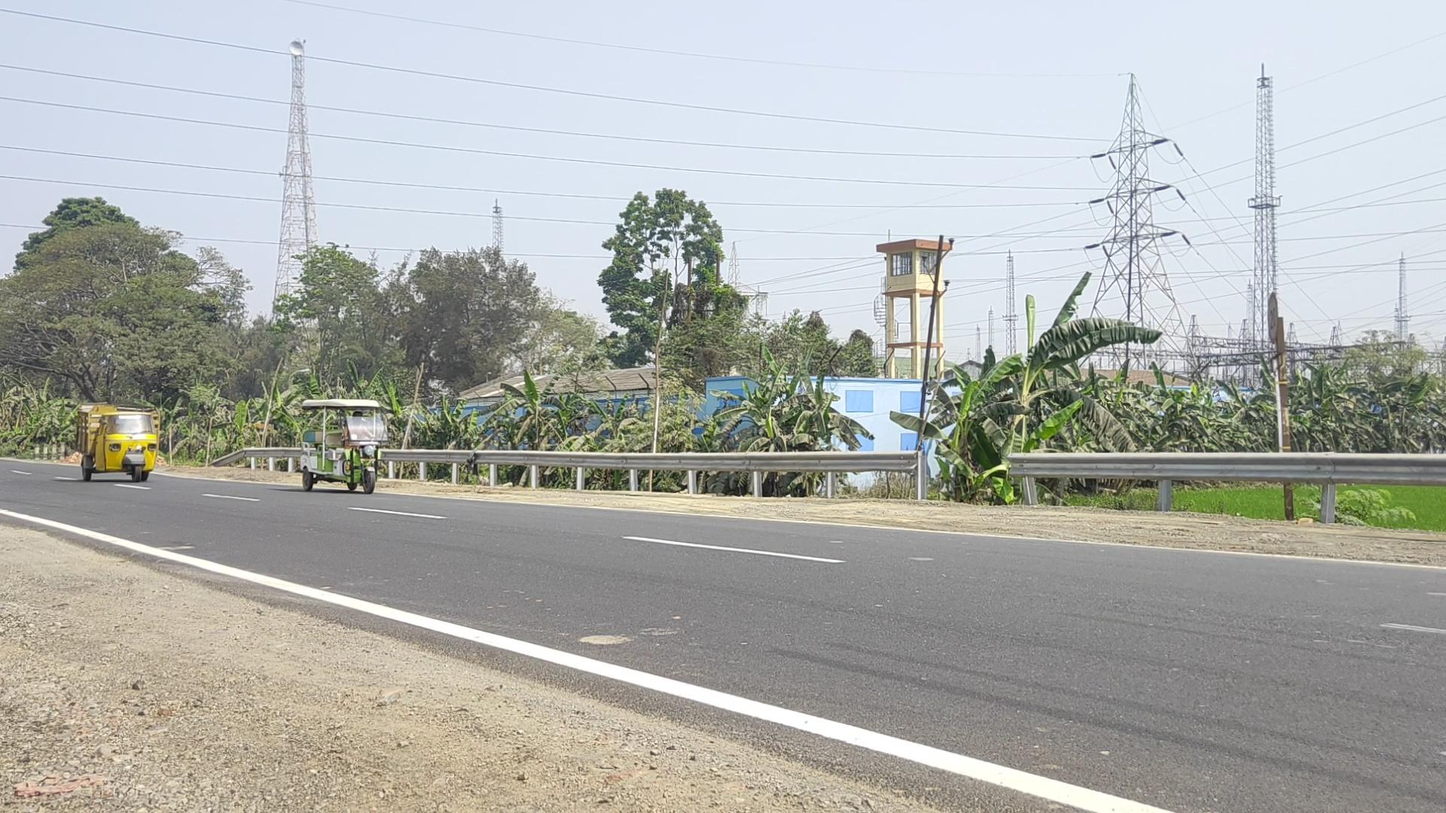Auto: (300, 399, 390, 495)
van: (75, 403, 161, 483)
